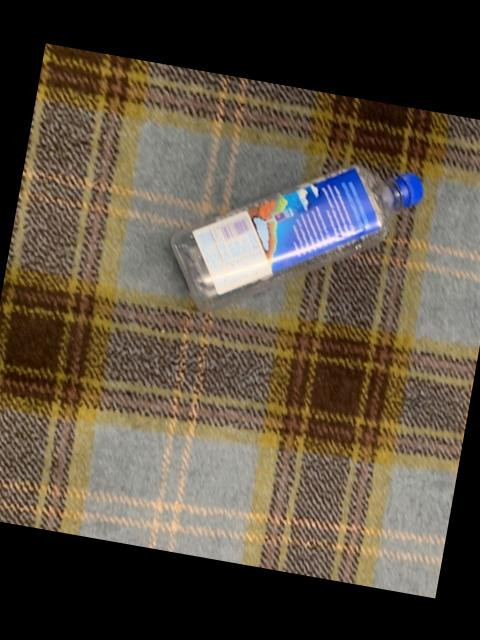plastic: (172, 166, 424, 311)
